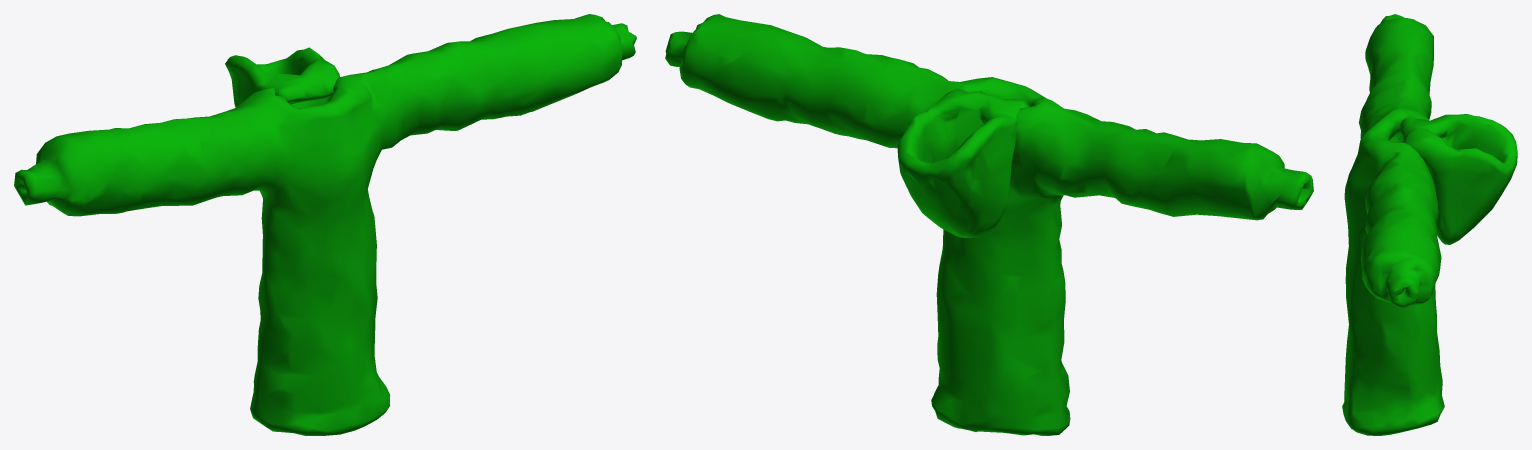
Rendered from hoodie down green.glb.
3 views of the same model, side by side, from view 1: azimuth 30°, elevation 25°; view 2: azimuth 150°, elevation 25°; view 3: azimuth 270°, elevation 25° (orthographic). The views are drawn at different scales.
Parts seen in each view (by area): view 1: shirt_hoodie_down_green.001; view 2: shirt_hoodie_down_green.001; view 3: shirt_hoodie_down_green.001.
Part boxes in pixels (box(x1,y1,x2,y2)): shirt_hoodie_down_green.001: box(14, 14, 636, 435); shirt_hoodie_down_green.001: box(665, 14, 1313, 435); shirt_hoodie_down_green.001: box(1342, 14, 1517, 435).
Size of the model in its own units: 0.7063 by 0.3673 by 0.1976.
Materials: 2 (2 with a texture image).
